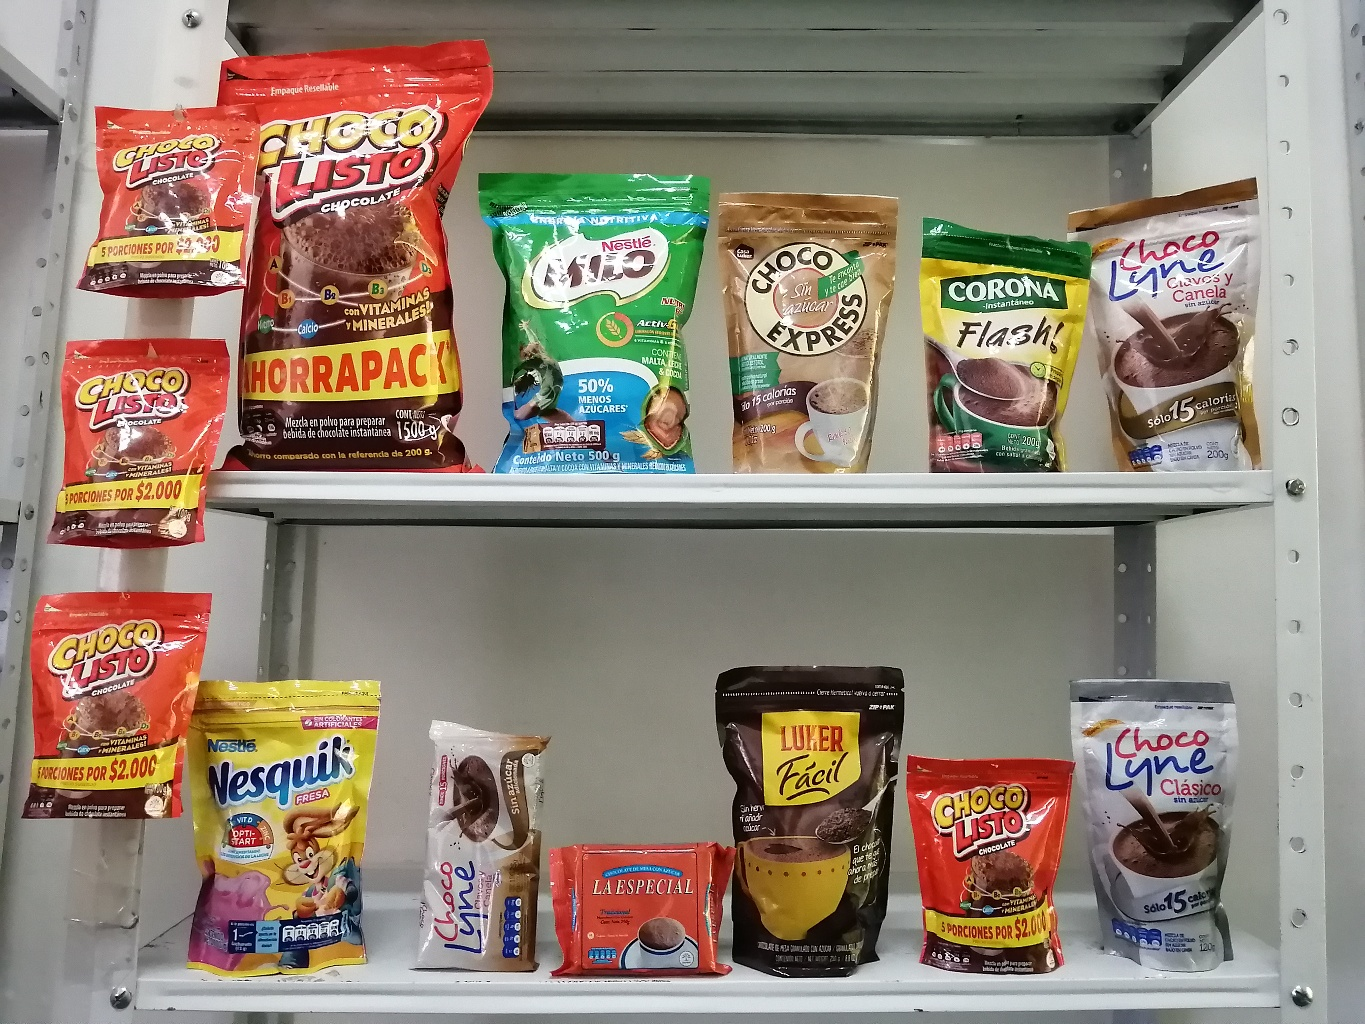COL0170103DYP1,500: (204, 32, 504, 472)
COL0170205DYP50000: (489, 155, 748, 467)
COL0170305DYP20000: (185, 680, 380, 978)
